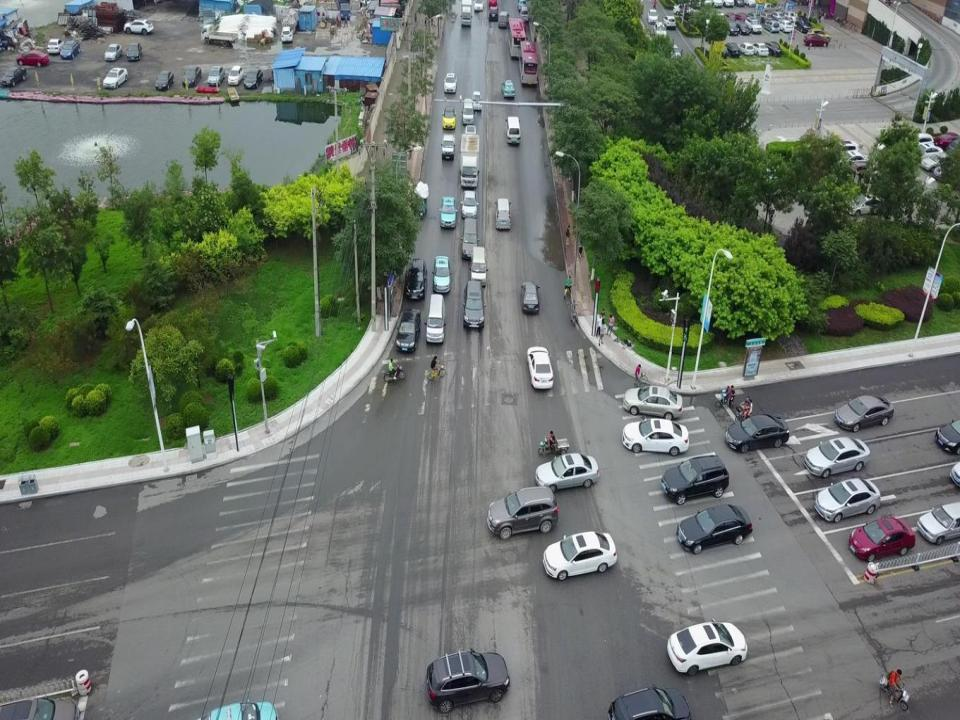bus: (518, 40, 539, 84)
car: (426, 646, 510, 712), (666, 618, 748, 675), (677, 502, 753, 554), (486, 486, 559, 539), (542, 530, 616, 582), (661, 454, 729, 505), (606, 682, 694, 720), (813, 477, 882, 524), (849, 515, 916, 560), (803, 436, 870, 477), (726, 413, 790, 454), (621, 418, 690, 455), (533, 453, 599, 491), (834, 393, 894, 432), (623, 385, 683, 420), (916, 500, 960, 546), (526, 346, 554, 390), (394, 308, 421, 352), (819, 140, 860, 168), (462, 282, 486, 328), (849, 160, 887, 189), (934, 416, 960, 454), (403, 258, 427, 299), (845, 193, 886, 217), (831, 151, 869, 176), (507, 18, 527, 58), (910, 143, 943, 166), (898, 132, 934, 152), (520, 280, 540, 312), (933, 160, 960, 183), (921, 152, 951, 172), (439, 196, 457, 228), (0, 66, 27, 87), (15, 50, 48, 67), (123, 18, 154, 36), (103, 67, 128, 88), (461, 190, 479, 219), (935, 131, 960, 149), (182, 65, 202, 87), (243, 68, 264, 88), (462, 124, 478, 150), (60, 40, 80, 60), (441, 105, 457, 129), (154, 70, 174, 89), (803, 33, 829, 47), (208, 65, 225, 86), (104, 43, 123, 61), (794, 15, 812, 34), (807, 28, 831, 42), (500, 79, 516, 98), (764, 40, 783, 56), (745, 17, 762, 34), (126, 42, 142, 60), (666, 42, 682, 60), (444, 73, 458, 93), (653, 22, 668, 40), (48, 38, 64, 54), (724, 19, 739, 36), (734, 20, 751, 35), (471, 91, 483, 112), (750, 43, 769, 56), (673, 4, 695, 15), (725, 43, 741, 58), (776, 20, 794, 33), (738, 42, 754, 56), (280, 26, 293, 43), (488, 4, 500, 22), (764, 20, 780, 33), (714, 44, 728, 58), (662, 15, 676, 29), (747, 10, 762, 23), (770, 10, 786, 22), (760, 2, 779, 12), (647, 9, 659, 24), (724, 12, 738, 24), (783, 10, 797, 22), (736, 12, 748, 25), (761, 12, 773, 24), (473, 0, 484, 11), (516, 0, 527, 10)
truck: (458, 134, 480, 186), (440, 133, 456, 161), (460, 0, 472, 26), (336, 0, 352, 19)
van: (424, 294, 446, 342), (460, 216, 479, 260), (470, 247, 489, 287), (494, 198, 512, 229), (505, 115, 521, 146), (462, 98, 474, 126), (228, 65, 244, 86), (498, 12, 510, 28), (520, 5, 530, 22)
